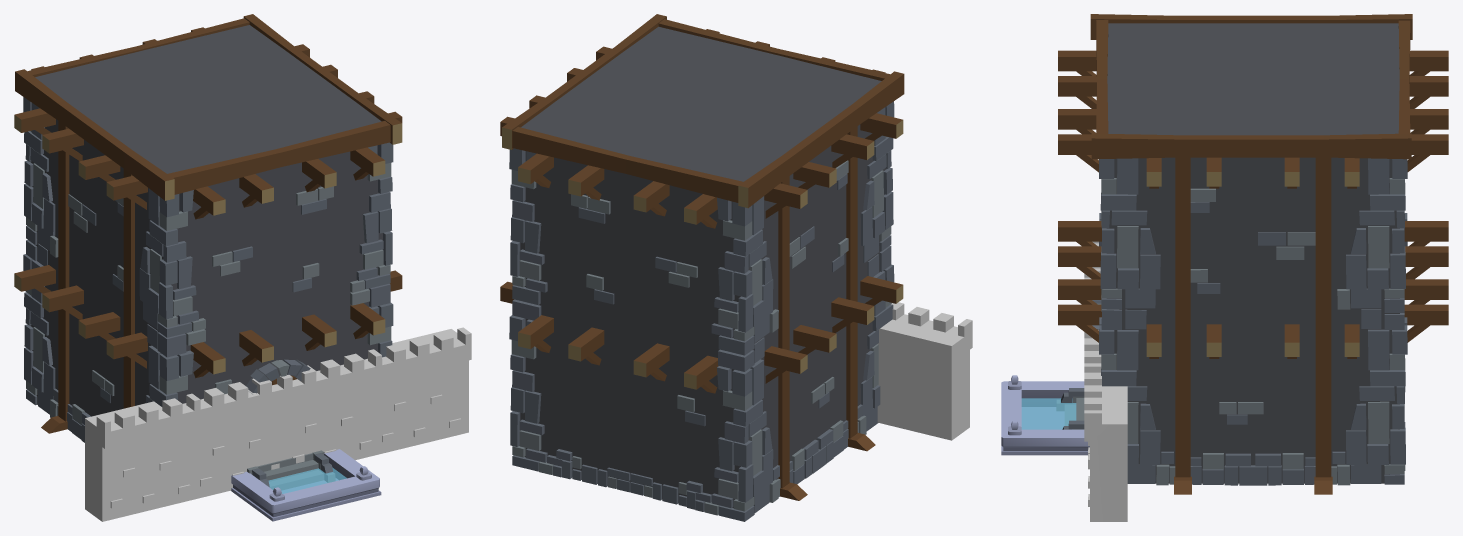
The model's file is london_house_mansion.glb.
The picture shows the model from 3 angles, left to right: view 1: azimuth 30°, elevation 25°; view 2: azimuth 150°, elevation 25°; view 3: azimuth 270°, elevation 25°; orthographic projection. The views are drawn at different scales.
Parts seen in each view (by area): view 1: House_3, WallBricks_Cube.038 (×4), fountain-square, (%ignore); view 2: House_3, WallBricks_Cube.038; view 3: House_3, WallBricks_Cube.038 (×2), fountain-square, (%ignore).
Part boxes in pixels (x1=…): House_3: x1=14, y1=14, x2=402, y2=490; WallBricks_Cube.038 (×4): x1=85, y1=327, x2=471, y2=521; fountain-square: x1=231, y1=449, x2=381, y2=521; (%ignore): x1=268, y1=467, x2=346, y2=493; House_3: x1=500, y1=14, x2=904, y2=521; WallBricks_Cube.038: x1=877, y1=302, x2=972, y2=440; House_3: x1=1056, y1=14, x2=1448, y2=494; WallBricks_Cube.038 (×2): x1=1084, y1=329, x2=1127, y2=521; fountain-square: x1=1001, y1=375, x2=1089, y2=455; (%ignore): x1=1021, y1=398, x2=1076, y2=429.
Size of the model in its own units: 13.53 by 11.49 by 13.32.
16 materials, 1 textured.
